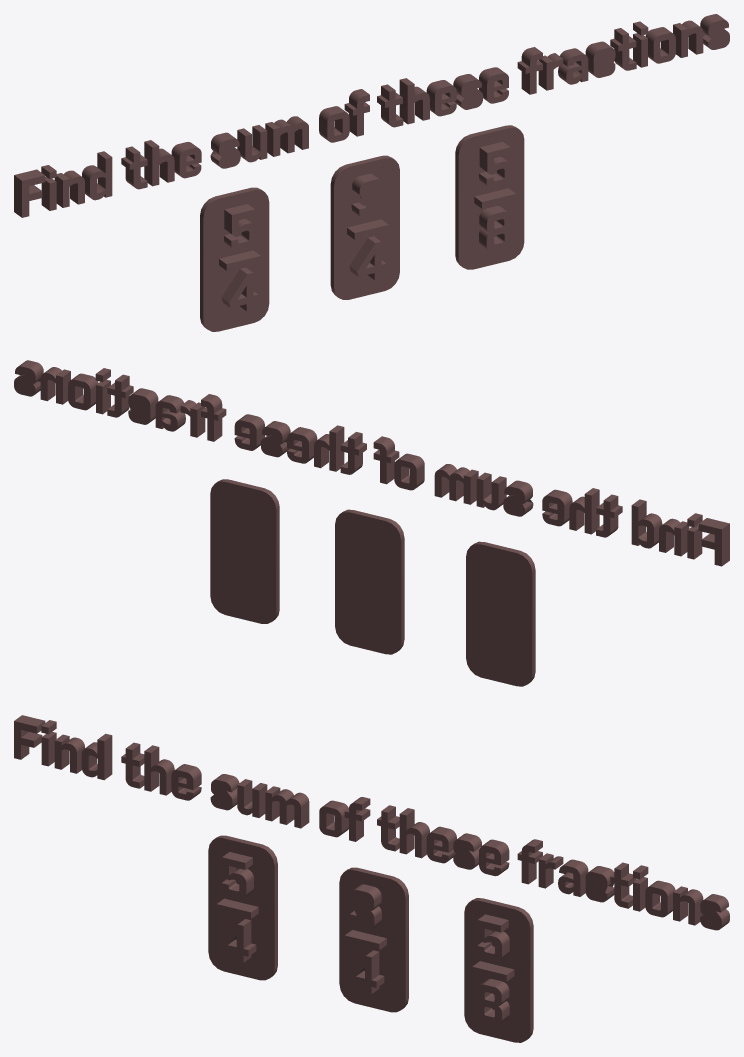
The picture shows the model from 3 angles, top to bottom: view 1: azimuth 30°, elevation 25°; view 2: azimuth 150°, elevation 25°; view 3: azimuth 330°, elevation 25°; orthographic projection.
Visible parts, largest first — view 1: polySurface12, polySurface39, polySurface38, polySurface40, polySurface35, polySurface31, polySurface34; view 2: polySurface12, polySurface39, polySurface38, polySurface40; view 3: polySurface12, polySurface39, polySurface38, polySurface40, polySurface35, polySurface31, polySurface34.
Boxes of the visible parts, x1=… form: polySurface12: x1=14, y1=14, x2=729, y2=217; polySurface39: x1=330, y1=155, x2=399, y2=299; polySurface38: x1=200, y1=187, x2=269, y2=331; polySurface40: x1=455, y1=125, x2=524, y2=269; polySurface35: x1=474, y1=141, x2=516, y2=251; polySurface31: x1=219, y1=204, x2=260, y2=311; polySurface34: x1=347, y1=173, x2=388, y2=280; polySurface12: x1=14, y1=360, x2=729, y2=566; polySurface39: x1=335, y1=509, x2=404, y2=654; polySurface38: x1=466, y1=541, x2=535, y2=686; polySurface40: x1=210, y1=479, x2=279, y2=623; polySurface12: x1=14, y1=715, x2=729, y2=930; polySurface39: x1=339, y1=867, x2=408, y2=1012; polySurface38: x1=208, y1=835, x2=277, y2=980; polySurface40: x1=464, y1=898, x2=533, y2=1042; polySurface35: x1=472, y1=914, x2=514, y2=1024; polySurface31: x1=216, y1=852, x2=258, y2=962; polySurface34: x1=344, y1=884, x2=386, y2=994.
Size of the model in its own units: 9.31 by 2.6 by 0.2541.
